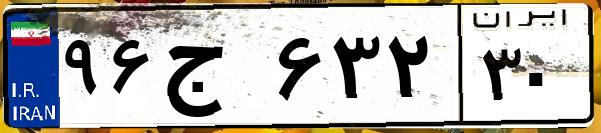0: (525, 38, 570, 115)
2: (385, 28, 445, 110)
3: (330, 28, 385, 110), (475, 38, 525, 113)
6: (270, 28, 330, 110), (110, 28, 158, 98)
9: (57, 26, 110, 100)
ج: (158, 20, 270, 120)
